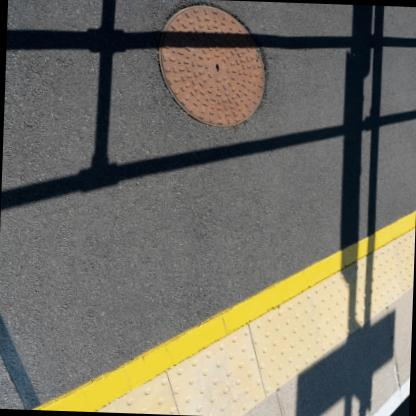manholes: (115, 0, 295, 164)
